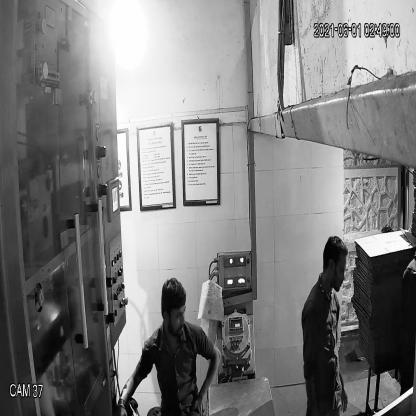no_goggles: (160, 301, 190, 324)
